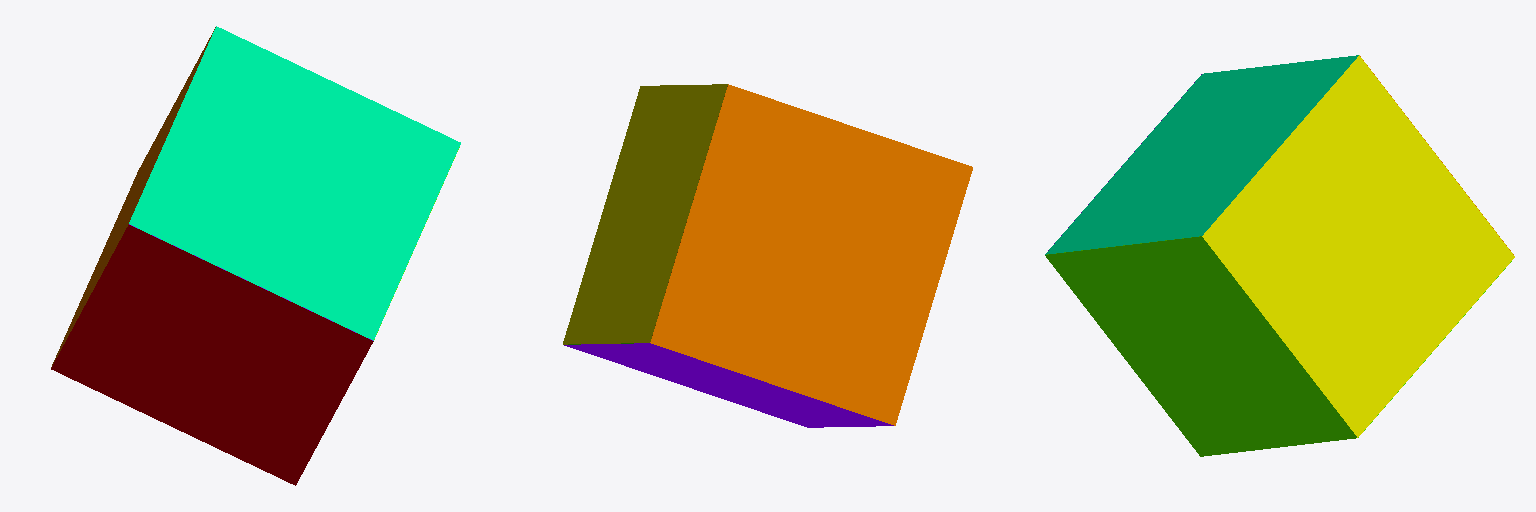
The picture shows the model from 3 angles: view 1: azimuth 30°, elevation 25°; view 2: azimuth 150°, elevation 25°; view 3: azimuth 270°, elevation 25°; orthographic projection.
Visible parts, largest first — view 1: Cube; view 2: Cube; view 3: Cube.
Part boxes in pixels (bbox=[...]): Cube: bbox=[51, 26, 460, 485]; Cube: bbox=[563, 84, 972, 427]; Cube: bbox=[1045, 55, 1514, 456].
Size of the model in its own units: 1.33 by 1.53 by 1.62.
1 materials, 1 textured.